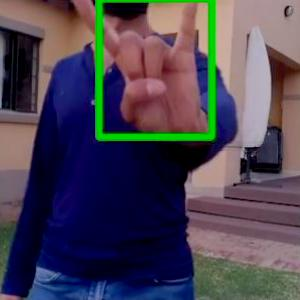takeoff-hand: (70, 0, 205, 137)
